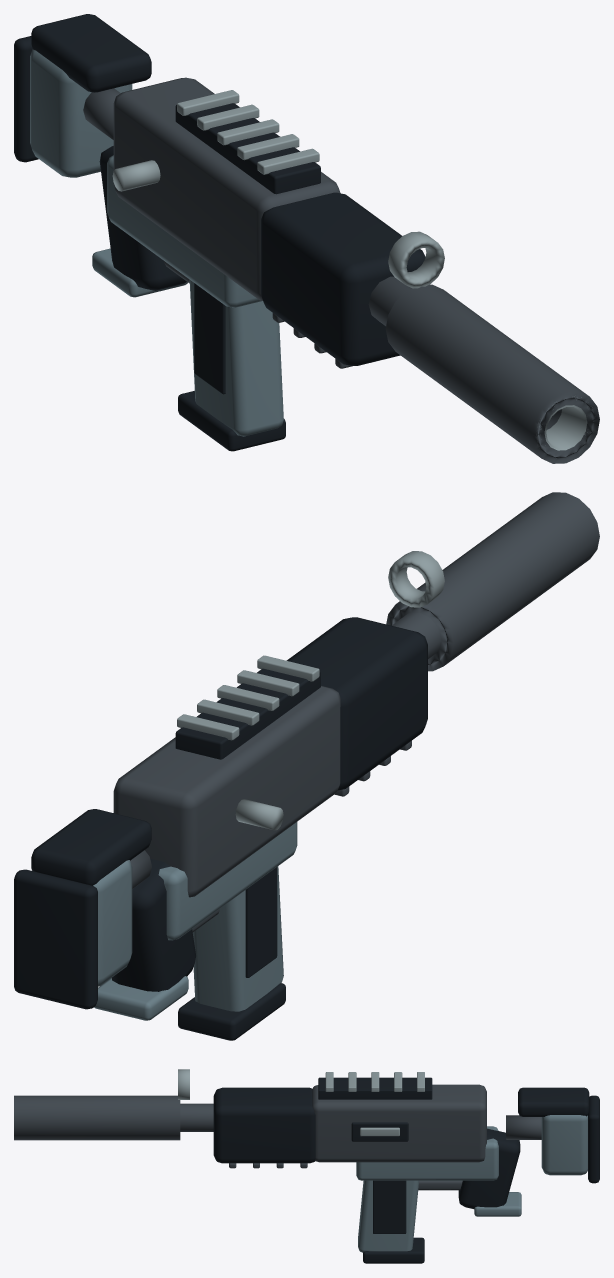
3 renders of one model, top to bottom at view 1: azimuth 30°, elevation 25°; view 2: azimuth 150°, elevation 25°; view 3: azimuth 270°, elevation 25°, orthographic. The views are drawn at different scales.
Parts seen in each view (by area): view 1: mp5_Cerakote graphite, mp5_Recesses and rubber, mp5_mp5 painted furniture, mp5_Machined edges; view 2: mp5_Recesses and rubber, mp5_Cerakote graphite, mp5_mp5 painted furniture, mp5_Machined edges; view 3: mp5_Cerakote graphite, mp5_Recesses and rubber, mp5_mp5 painted furniture, mp5_Machined edges.
Boxes of the visible parts, box(x1,y1,x2,y2) form: mp5_Cerakote graphite: box(83, 77, 599, 463); mp5_Recesses and rubber: box(14, 14, 425, 451); mp5_mp5 painted furniture: box(30, 49, 283, 436); mp5_Machined edges: box(112, 90, 593, 450); mp5_Recesses and rubber: box(14, 617, 427, 1040); mp5_Cerakote graphite: box(113, 492, 599, 932); mp5_mp5 painted furniture: box(93, 822, 297, 1020); mp5_Machined edges: box(177, 551, 444, 830); mp5_Cerakote graphite: box(14, 1084, 541, 1190); mp5_Recesses and rubber: box(213, 1077, 599, 1263); mp5_mp5 painted furniture: box(356, 1115, 587, 1252); mp5_Machined edges: box(178, 1069, 424, 1136).
Size of the model in its own units: 0.1083 by 0.2586 by 0.7395.
